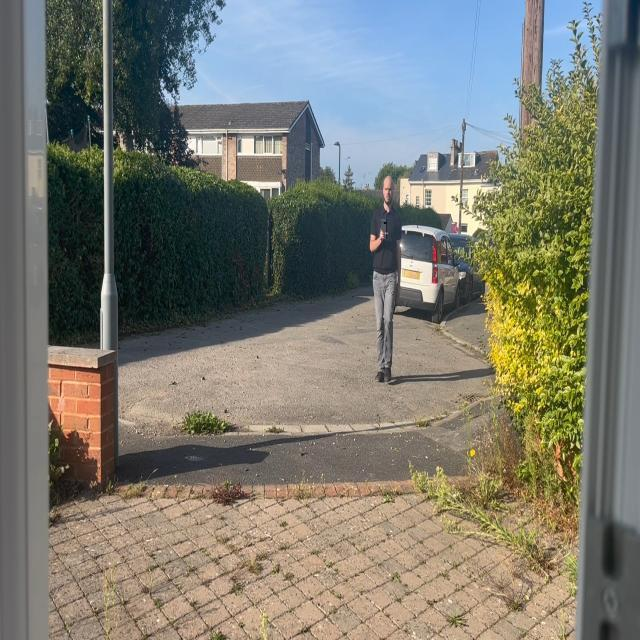lens: (385, 222, 387, 224)
phone: (382, 219, 388, 239)
